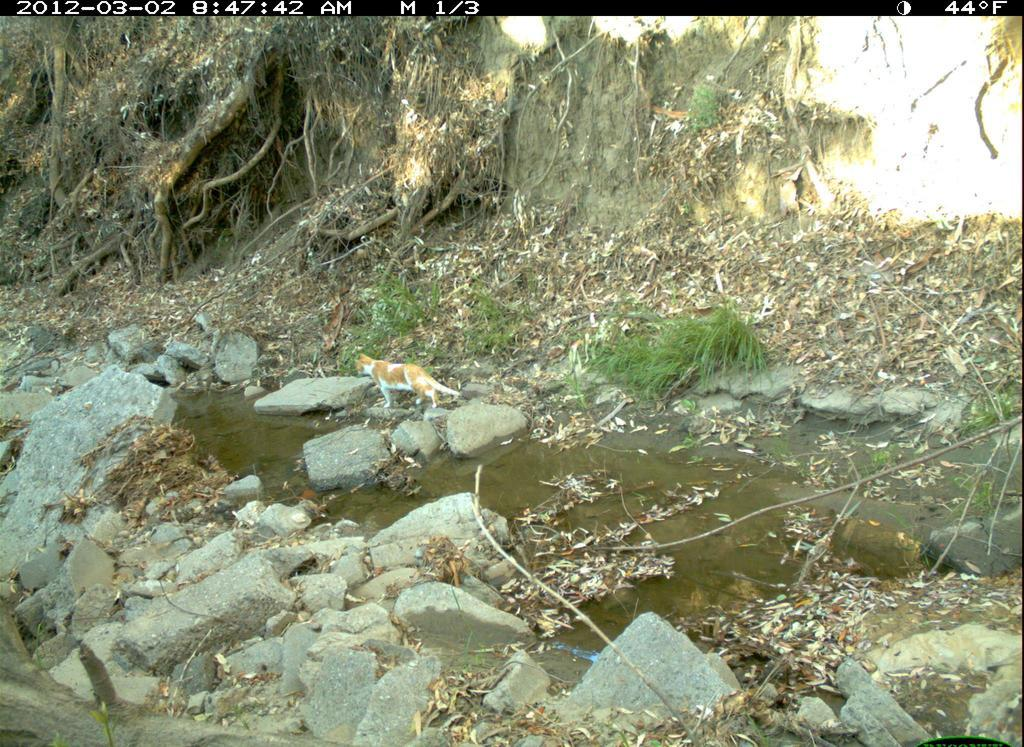cat: (350, 342, 469, 425)
